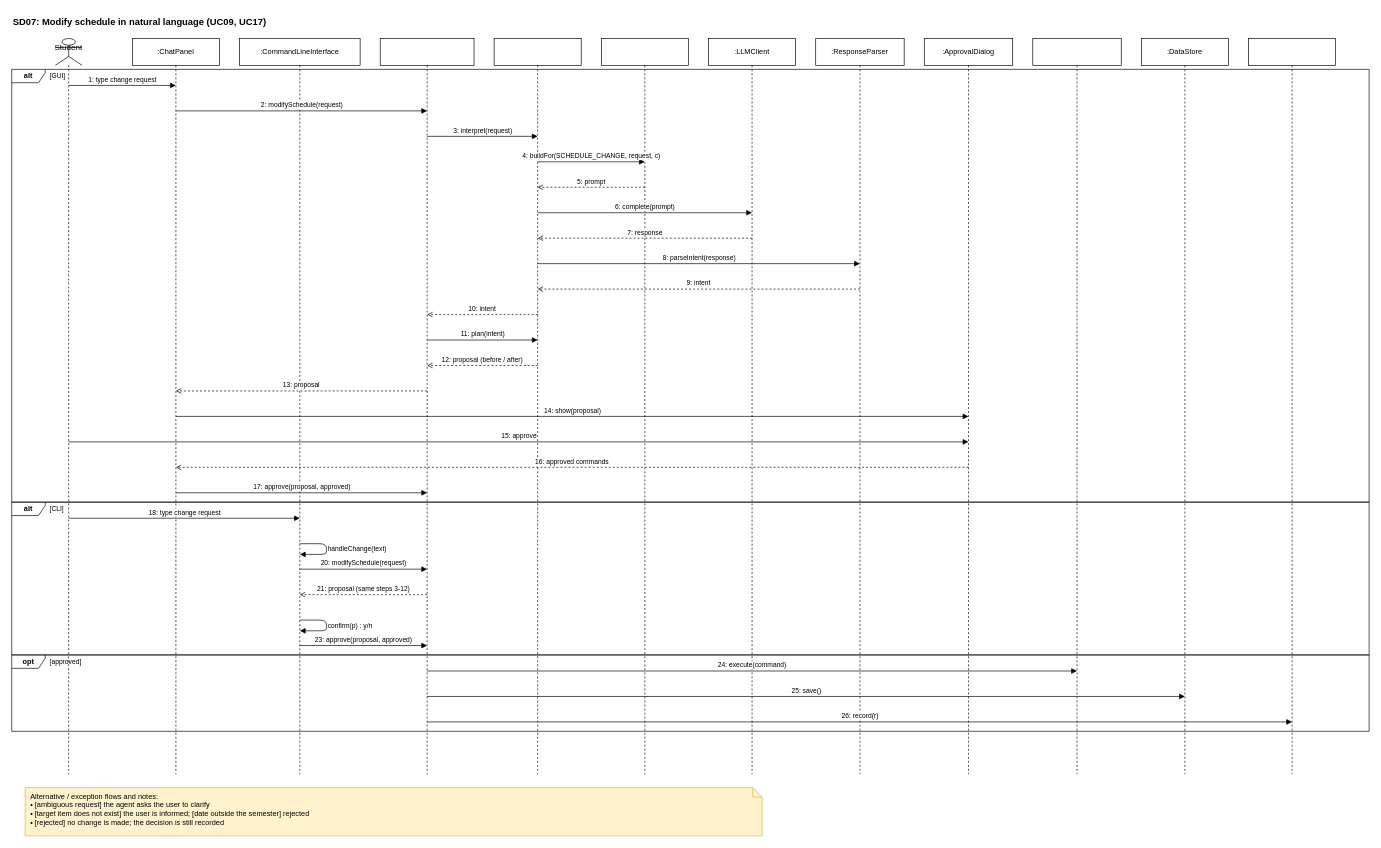
The diagram is 1381 pixels wide and 848 high, and some of its shapes have lost their labels. Here are the shapes that lost their labels. From the top down, the box of each, then its label:
(380, 38, 474, 774): :AgentController
(493, 38, 581, 774): :Planner
(601, 38, 688, 774): :PromptBuilder
(1032, 38, 1121, 774): :CommandInvoker
(1248, 38, 1336, 774): :MemoryManager
